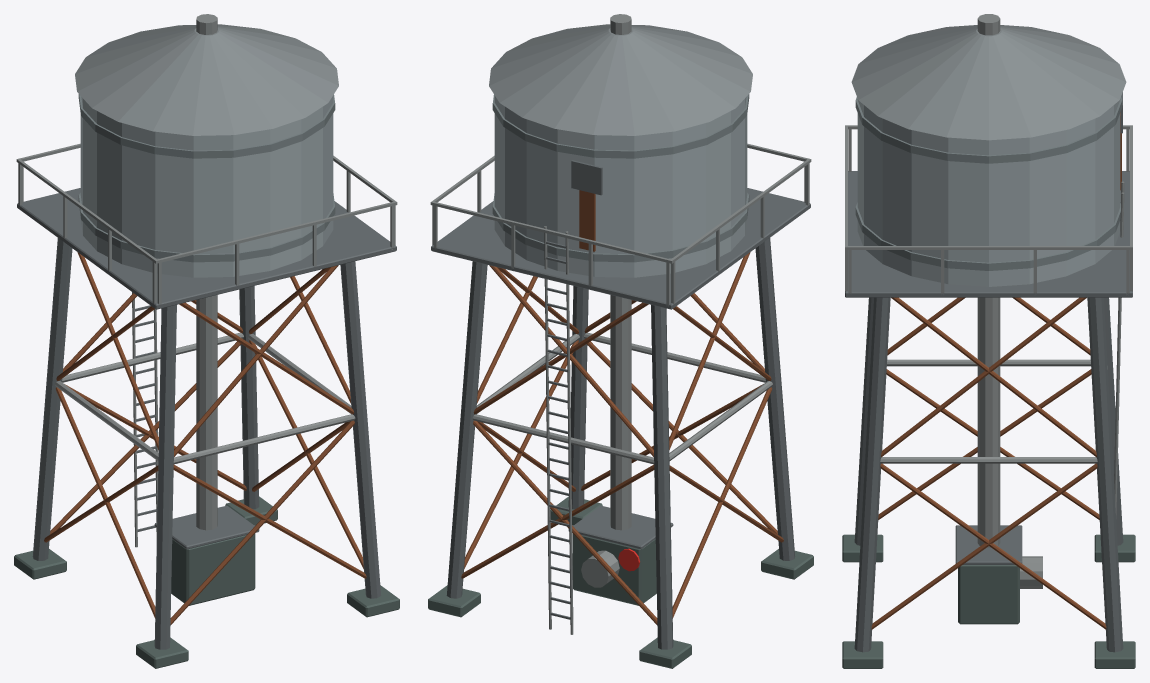
File: water_tower.glb
3 renders of one model, left to right at view 1: azimuth 30°, elevation 25°; view 2: azimuth 150°, elevation 25°; view 3: azimuth 270°, elevation 25°, orthographic. The views are drawn at different scales.
Visible parts, largest first — view 1: water_tower; view 2: water_tower; view 3: water_tower.
Part boxes in pixels (x1,y1,x2,y2): water_tower: [14, 14, 399, 668]; water_tower: [428, 14, 813, 668]; water_tower: [842, 14, 1135, 668].
Bounding box in the file's own units: 5.7 × 12.63 × 5.7.
